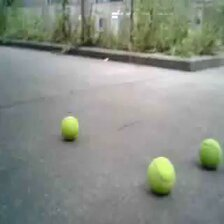tennis: (147, 156, 175, 192), (199, 139, 224, 170), (60, 115, 79, 141)
